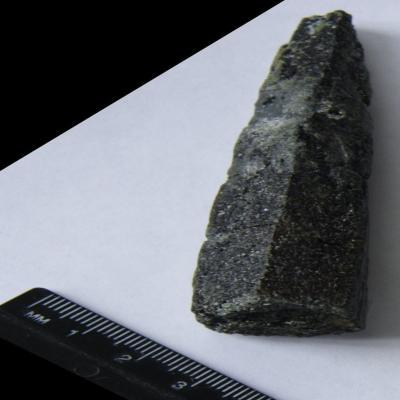mineralogy: (190, 10, 374, 339)
